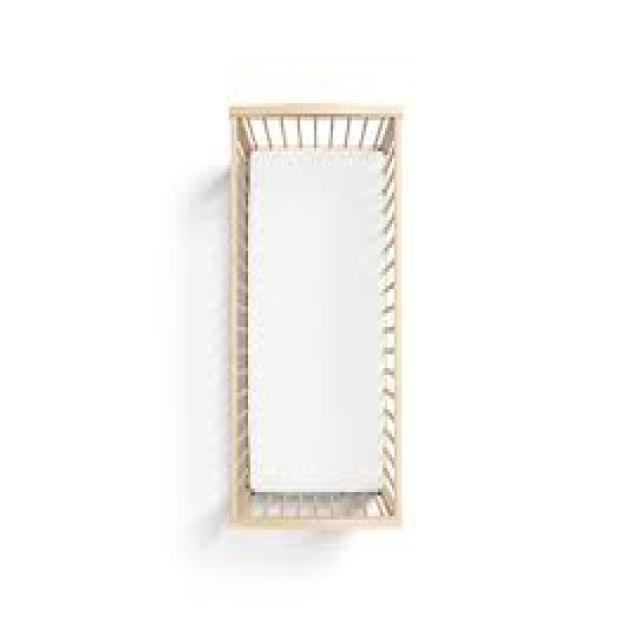crib: (225, 100, 402, 530)
